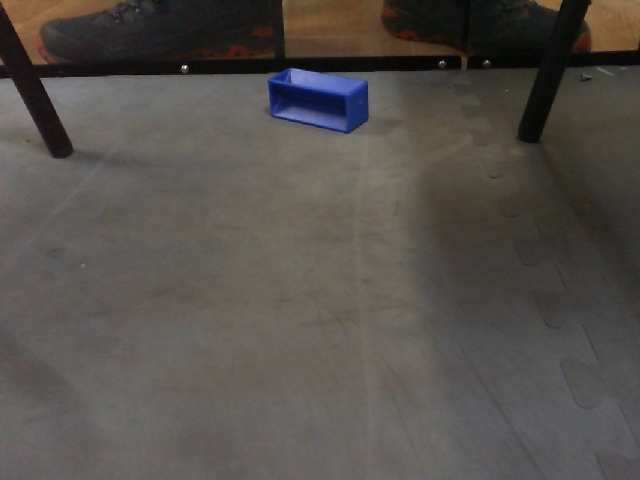BlueSample: (266, 67, 371, 138)
